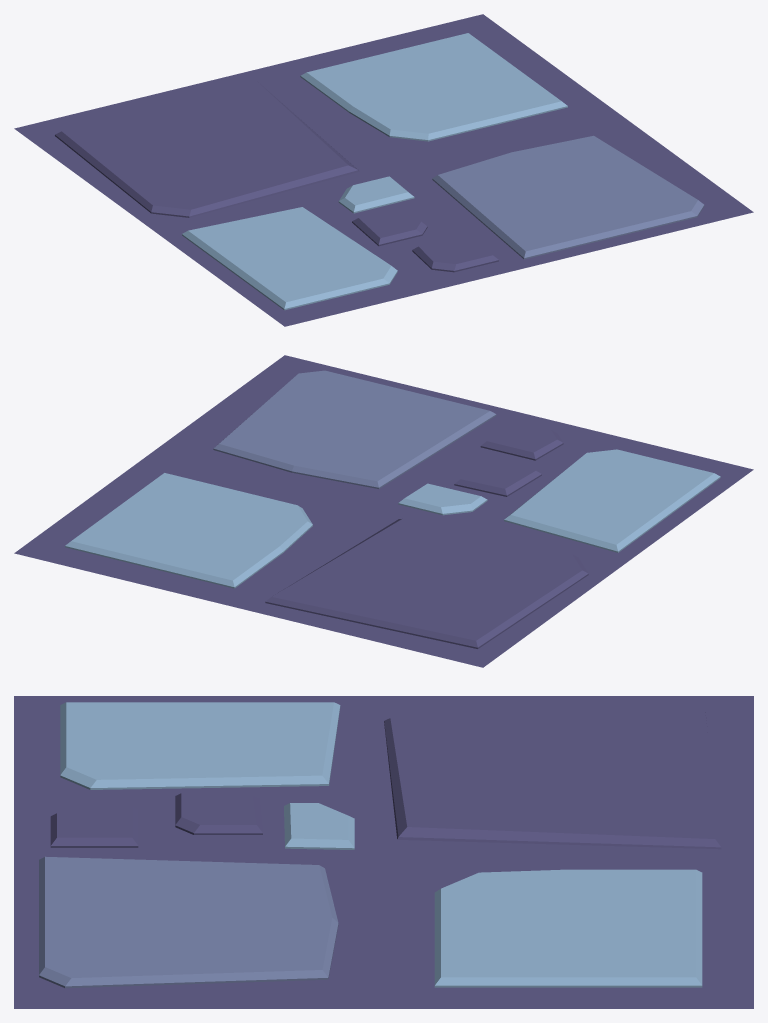
The model's file is Floor_Stones_Big_03.fbx.
3 views of the same model, one above another, from view 1: azimuth 30°, elevation 25°; view 2: azimuth 150°, elevation 25°; view 3: azimuth 270°, elevation 25° (orthographic). The views are drawn at different scales.
Visible parts, largest first — view 1: Floor_Stones_Big_03; view 2: Floor_Stones_Big_03; view 3: Floor_Stones_Big_03.
Boxes of the visible parts, x1,y1,x2,y2 form: Floor_Stones_Big_03: [14, 14, 753, 326]; Floor_Stones_Big_03: [14, 355, 753, 667]; Floor_Stones_Big_03: [14, 696, 753, 1008].
Size of the model in its own units: 1000 by 11.22 by 1000.
